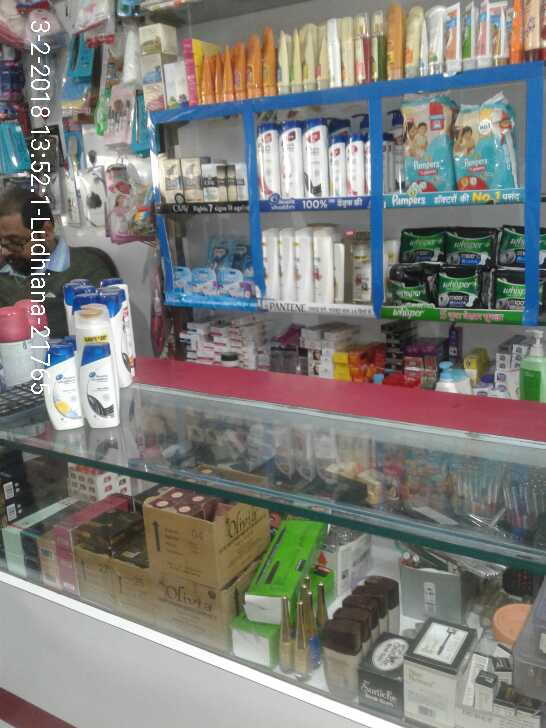venus: (194, 267, 217, 295), (217, 269, 241, 295), (209, 238, 230, 263), (172, 267, 193, 291), (231, 237, 250, 263)
